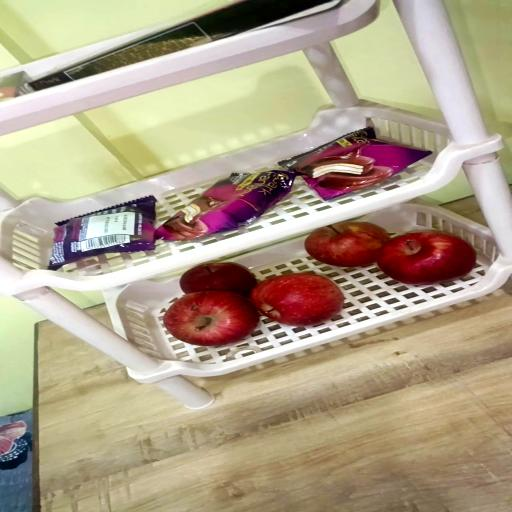Apple: (377, 231, 476, 285), (164, 291, 259, 346), (250, 273, 344, 326), (305, 222, 390, 267), (180, 262, 256, 298)
Choco Fills: (29, 0, 345, 90), (0, 71, 29, 102)
Choco Pie: (279, 126, 431, 200), (157, 170, 295, 241), (49, 196, 155, 269)
